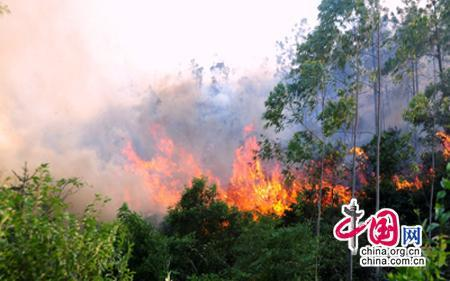fire: (119, 104, 448, 218)
